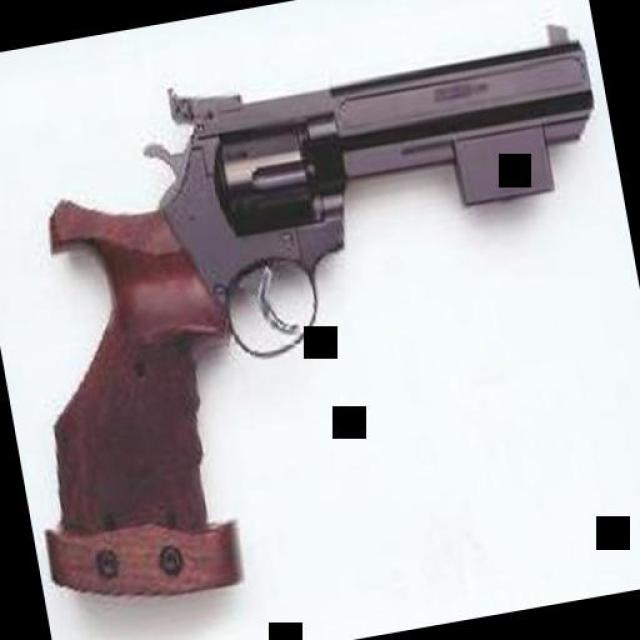gun: (0, 15, 640, 603)
